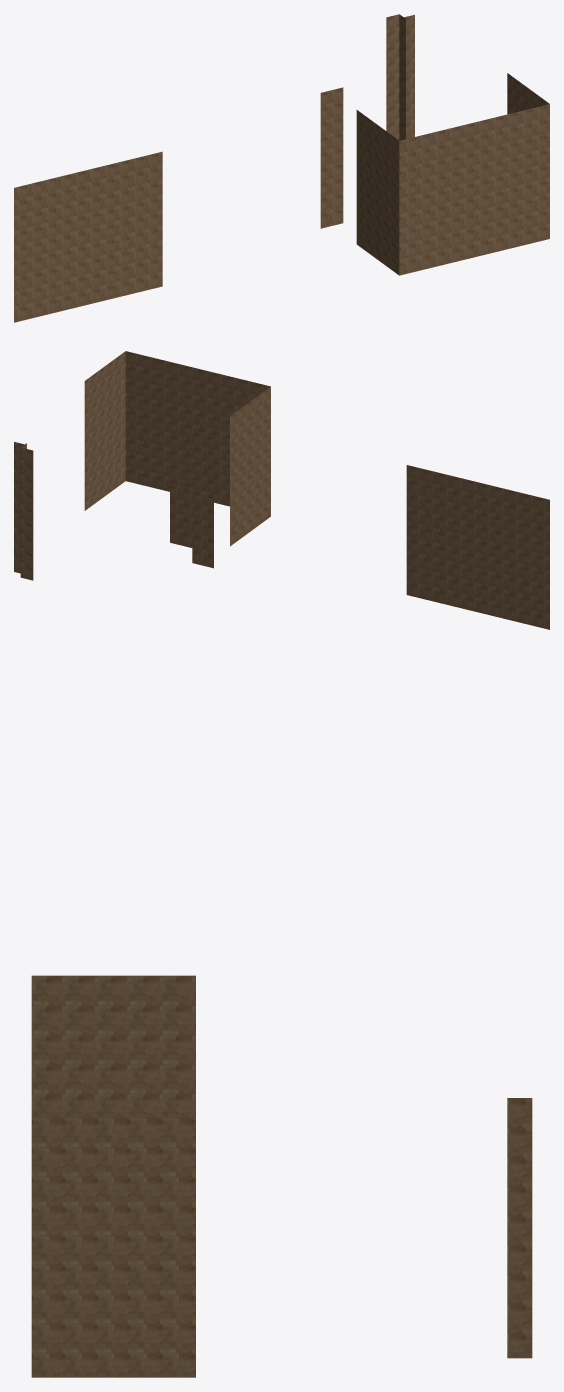
File: ADSK_70.obj
3 views of the same model, one above another, from view 1: azimuth 30°, elevation 25°; view 2: azimuth 150°, elevation 25°; view 3: azimuth 270°, elevation 25° (orthographic). The views are drawn at different scales.
Bounding box in the file's own units: 10.22 × 2.72 × 4.71.
Materials: 1 (1 with a texture image).
